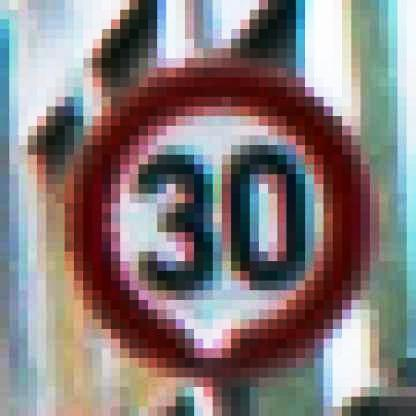Speed Limit -30-: (66, 56, 378, 384)
